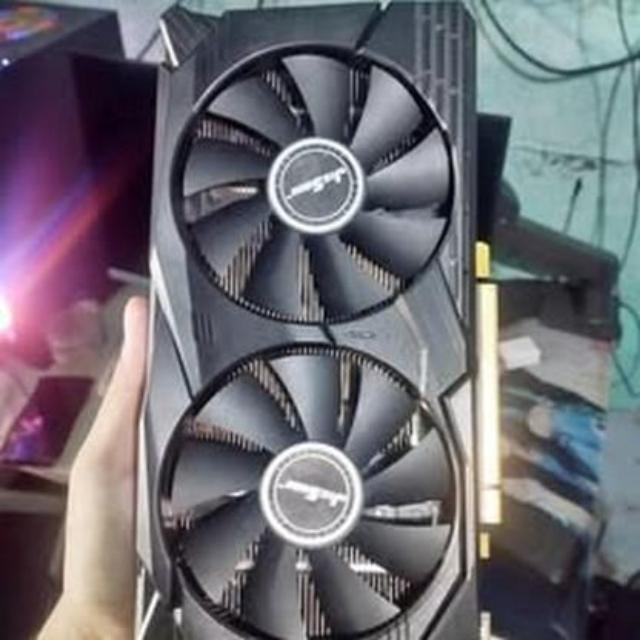GPU: (144, 0, 512, 640)
